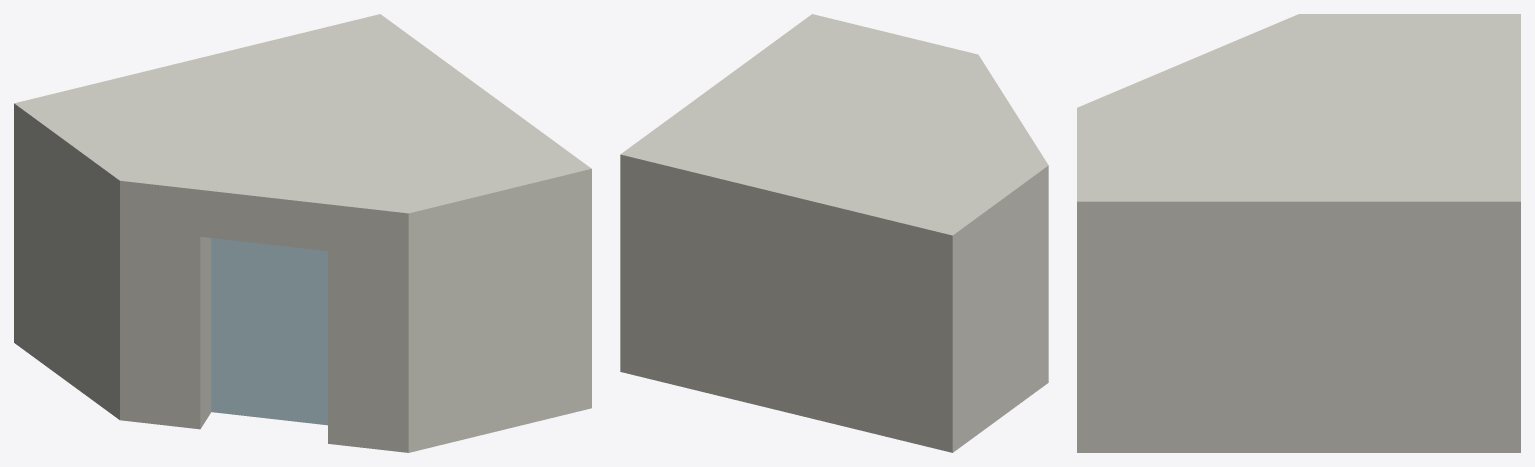
The model's file is building_037.glb.
3 renders of one model, left to right at view 1: azimuth 30°, elevation 25°; view 2: azimuth 150°, elevation 25°; view 3: azimuth 270°, elevation 25°, orthographic. The views are drawn at different scales.
Visible parts, largest first — view 1: building_037; view 2: building_037; view 3: building_037.
Boxes of the visible parts, x1,y1,x2,y2 form: building_037: (14, 14, 591, 452); building_037: (620, 14, 1048, 452); building_037: (1077, 14, 1520, 452).
Size of the model in its own units: 1 by 0.625 by 1.
